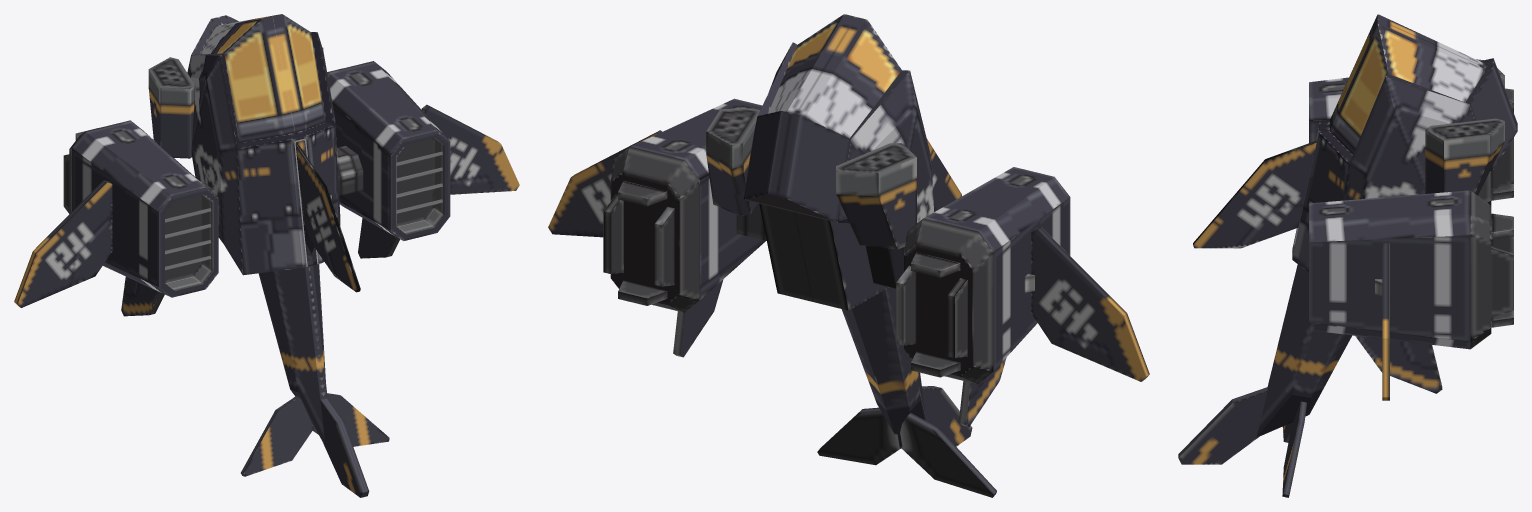
The model's file is TroubleShooterJet.fbx.
3 views of the same model, side by side, from view 1: azimuth 30°, elevation 25°; view 2: azimuth 150°, elevation 25°; view 3: azimuth 270°, elevation 25° (orthographic). The views are drawn at different scales.
Parts seen in each view (by area): view 1: Body, R_Engine, L_Engine, R_Wing, L_Wing, R_Launcher; view 2: Body, R_Engine, L_Engine, R_Wing, R_Launcher, L_Launcher, L_Wing; view 3: Body, L_Engine, L_Launcher, R_Engine, L_Wing.
Part boxes in pixels (x1,y1,x2,y2): Body: (187,14,389,497); R_Engine: (63,120,218,316); L_Engine: (327,61,450,258); R_Wing: (14,180,112,307); L_Wing: (421,104,519,194); R_Launcher: (148,57,194,158); Body: (736,14,996,497); R_Engine: (896,167,1070,426); L_Engine: (603,98,765,357); R_Wing: (1024,227,1149,381); R_Launcher: (836,143,916,249); L_Launcher: (706,107,759,215); L_Wing: (548,130,662,237); Body: (1178,14,1517,497); L_Engine: (1309,190,1513,393); L_Launcher: (1425,118,1504,195); R_Engine: (1309,77,1513,205); L_Wing: (1375,243,1389,400).
Bounding box in the file's own units: 5.14 × 4.07 × 2.82.
